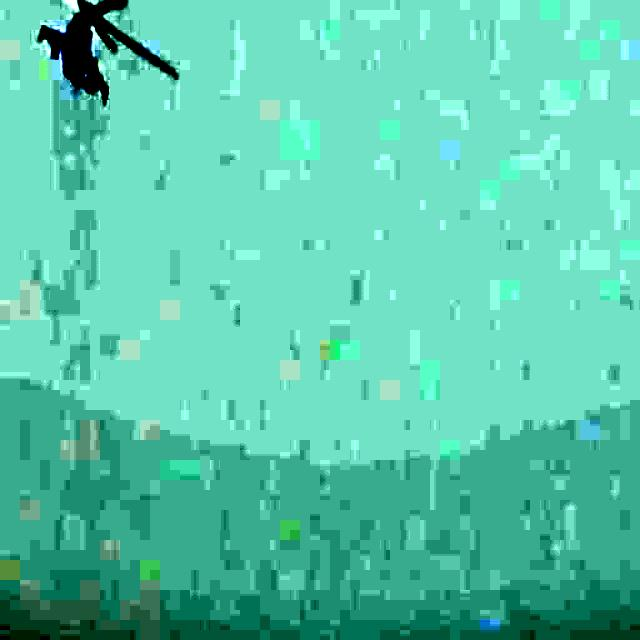drone: (36, 0, 181, 111)
